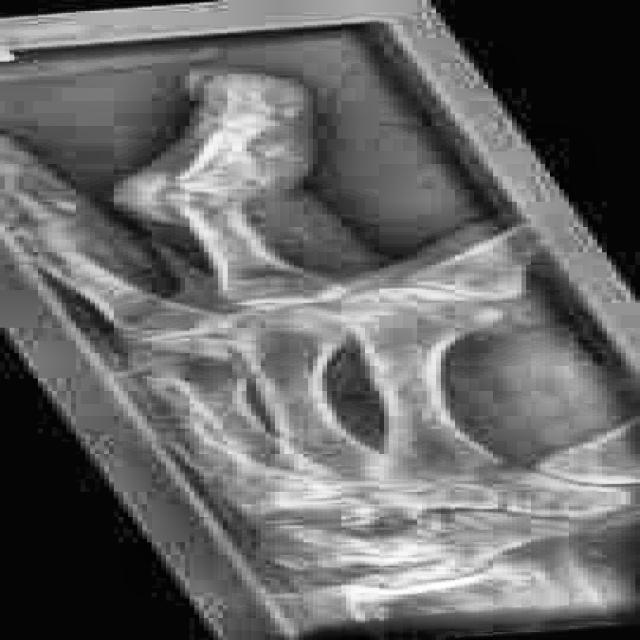fingers positive: (125, 165, 287, 223), (178, 107, 292, 158)
